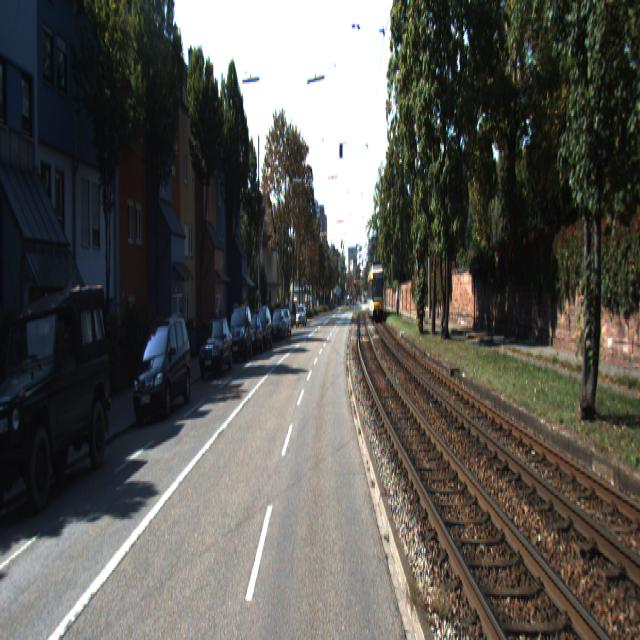Car: (0, 274, 115, 528), (131, 312, 193, 427), (198, 318, 234, 382), (227, 302, 253, 364), (367, 263, 385, 321), (243, 314, 263, 358)
